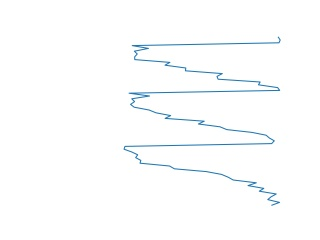distributaryMouthBar: (121, 36, 283, 207)
